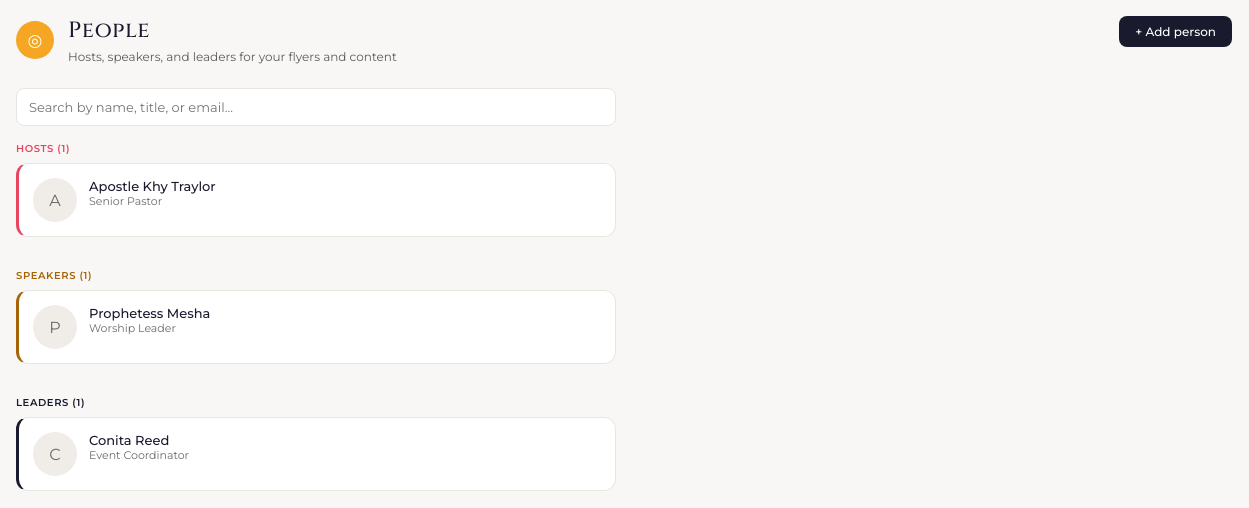
Test: shows a no-match message when the search finds nobody
The width and height of the screenshot is (1249, 508).
Check: the text "Apostle Khy Traylor" is shown, box [89,178,216,194]
Type "nonexistent" into the field with placeholder "Search by name, title, or email..." at (316, 107), box [16,88,616,126]
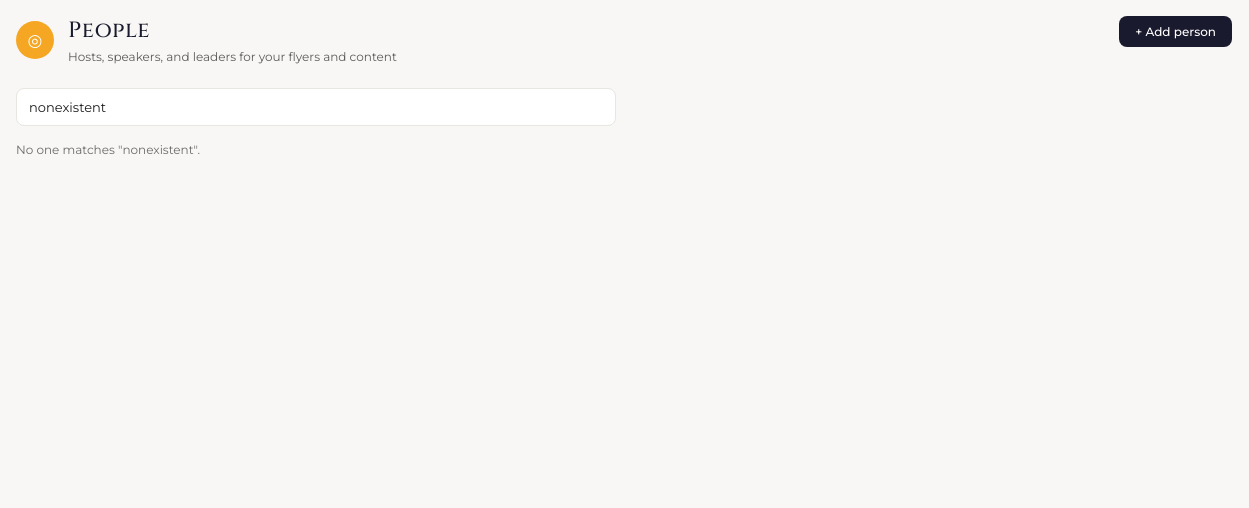
Check: the text "No one matches \"nonexistent\"." is shown, box [16,142,200,157]
